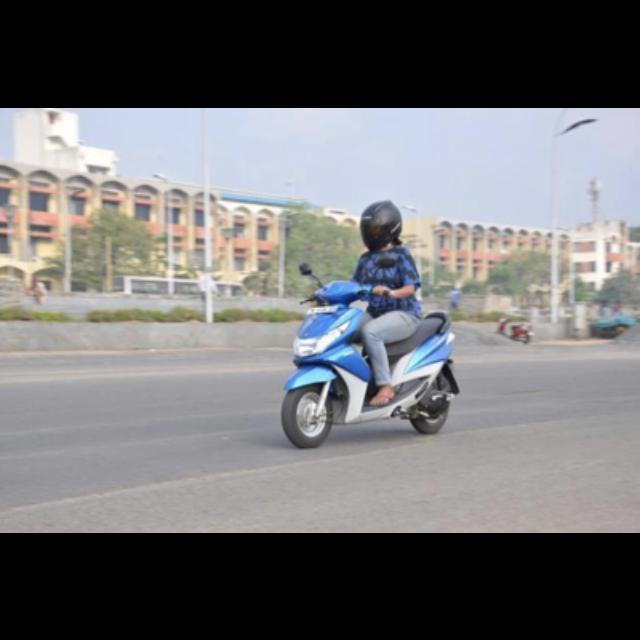With Helmet: (354, 192, 408, 250)
